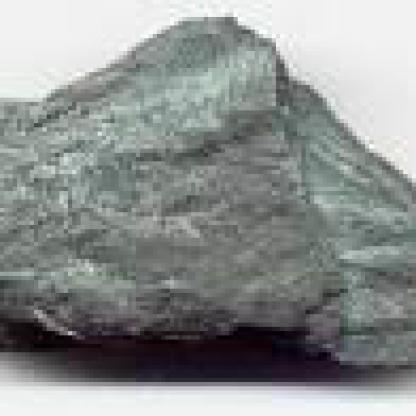Sedimentary_coal: (0, 9, 412, 365)
